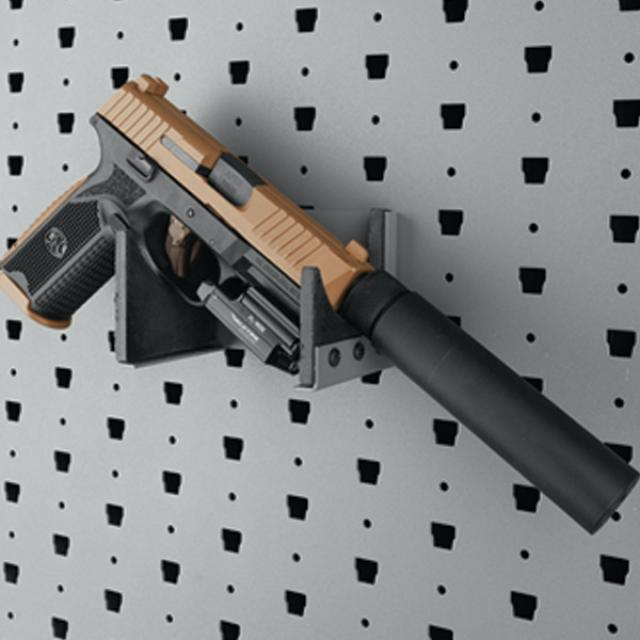HandGun: (0, 76, 640, 537)
